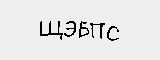Б: (78, 19, 90, 41)
П: (89, 20, 105, 41)
С: (105, 24, 122, 44)
Щ: (37, 18, 65, 43)
Э: (63, 18, 78, 40)
